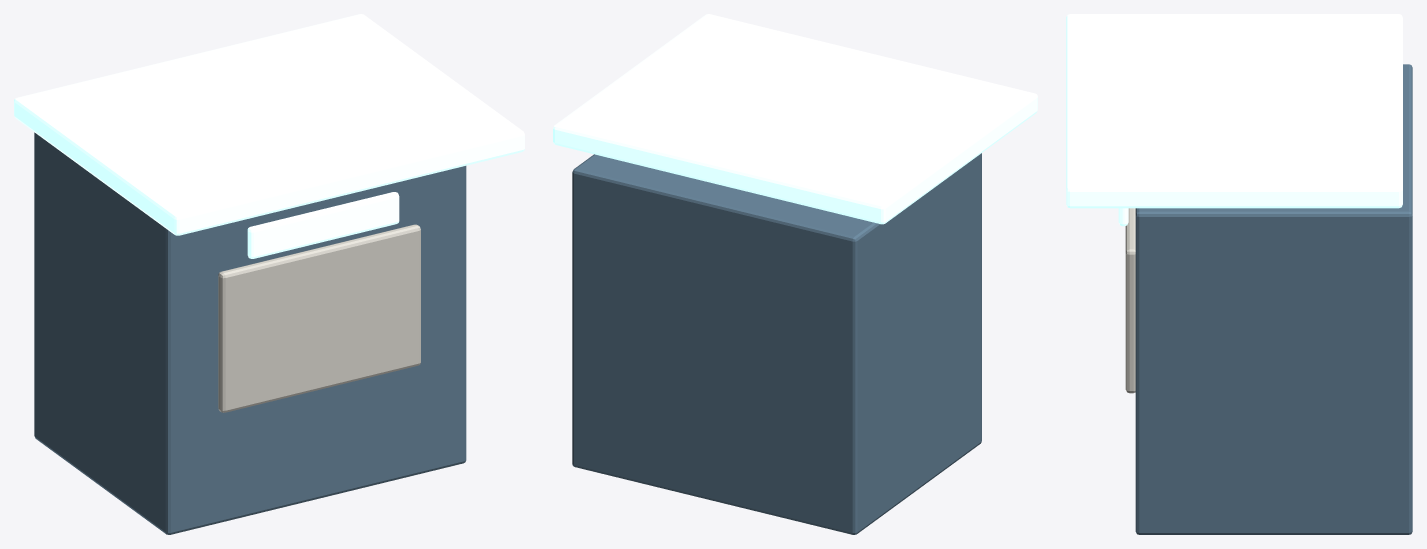
The model's file is SM_Rheinufer_Kiosk.fbx.
3 renders of one model, left to right at view 1: azimuth 30°, elevation 25°; view 2: azimuth 150°, elevation 25°; view 3: azimuth 270°, elevation 25°, orthographic. The views are drawn at different scales.
Parts seen in each view (by area): view 1: SM_Rheinufer_Kiosk; view 2: SM_Rheinufer_Kiosk; view 3: SM_Rheinufer_Kiosk.
Part boxes in pixels (box(x1,y1,x2,y2)): SM_Rheinufer_Kiosk: box(14, 14, 524, 534); SM_Rheinufer_Kiosk: box(553, 14, 1037, 534); SM_Rheinufer_Kiosk: box(1066, 14, 1412, 534).
Size of the model in its own units: 2.1 by 2.01 by 1.75.
